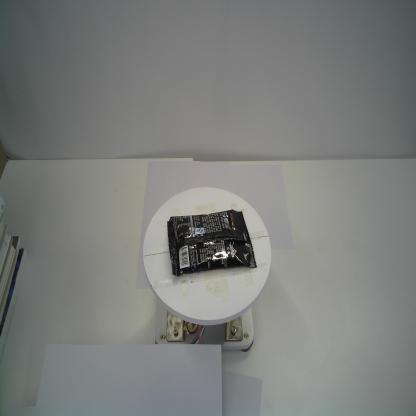Instant Drink: (167, 209, 257, 277)
